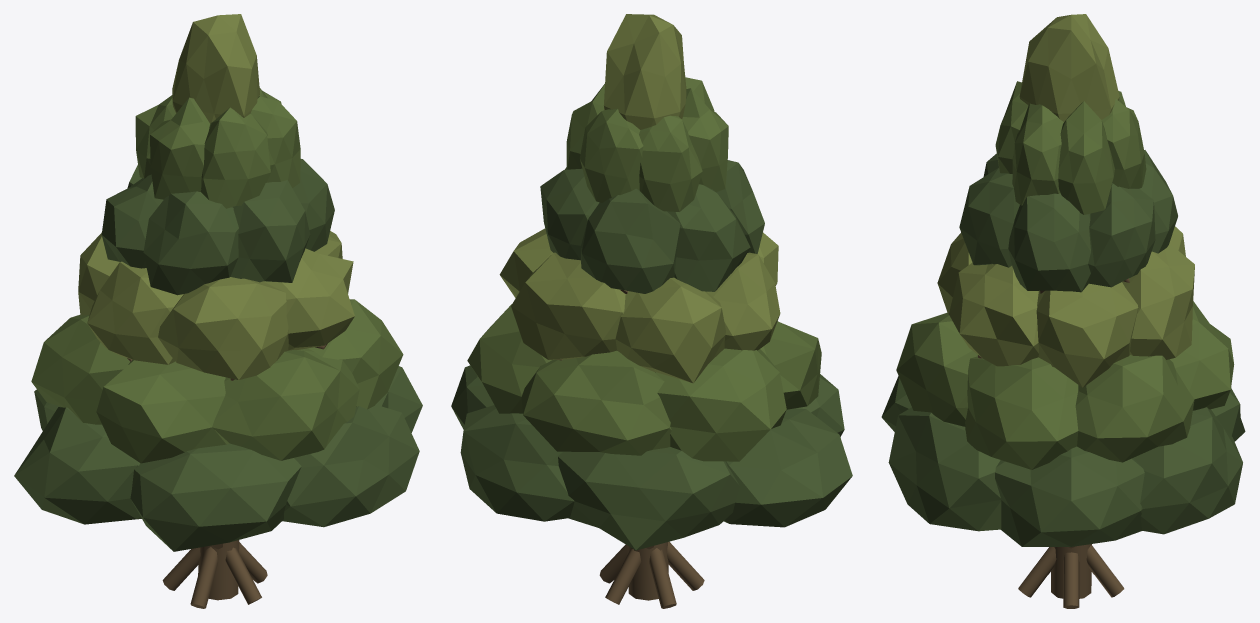
Rendered from tree-pine.glb.
3 renders of one model, left to right at view 1: azimuth 30°, elevation 25°; view 2: azimuth 150°, elevation 25°; view 3: azimuth 270°, elevation 25°, orthographic.
Parts seen in each view (by area): view 1: Foliage shadow, Foliage middle, Foliage sun, Bark; view 2: Foliage shadow, Foliage middle, Foliage sun, Bark; view 3: Foliage shadow, Foliage middle, Foliage sun, Bark.
Boxes of the visible parts, box(x1,y1,x2,y2) form: Foliage shadow: box(14, 159, 422, 551); Foliage middle: box(31, 88, 403, 463); Foliage sun: box(78, 14, 354, 379); Bark: box(127, 343, 327, 608); Foliage shadow: box(451, 160, 852, 550); Foliage middle: box(467, 77, 821, 461); Foliage sun: box(499, 14, 780, 383); Bark: box(556, 289, 704, 608); Foliage shadow: box(881, 150, 1245, 546); Foliage middle: box(896, 81, 1234, 469); Foliage sun: box(937, 14, 1194, 387); Bark: box(978, 278, 1129, 608).
Size of the model in its own units: 4.25 by 6.18 by 3.54.
